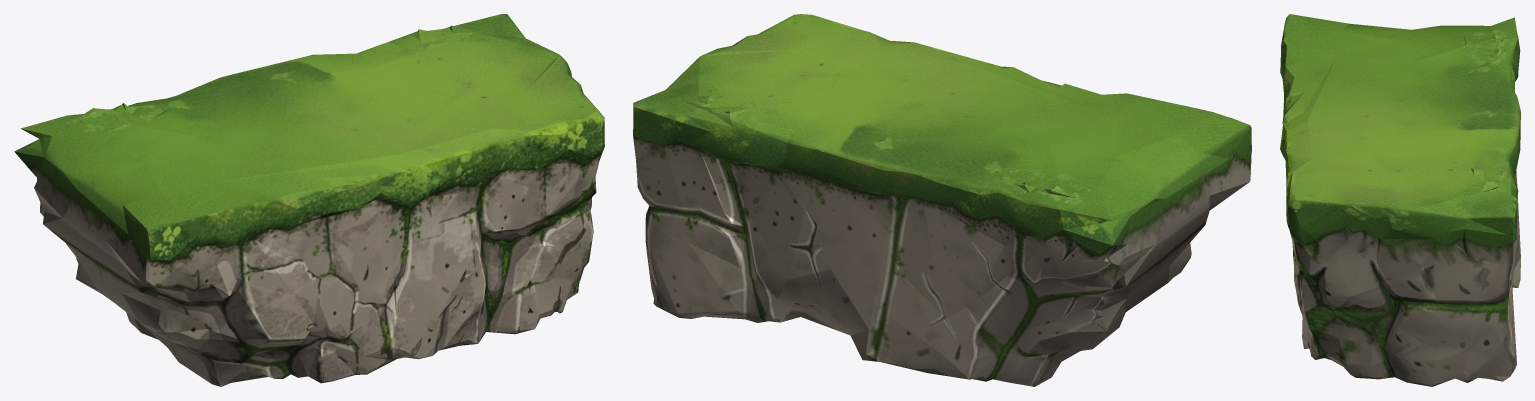
File: RockBlockLight.fbx
3 views of the same model, side by side, from view 1: azimuth 30°, elevation 25°; view 2: azimuth 150°, elevation 25°; view 3: azimuth 270°, elevation 25° (orthographic). The views are drawn at different scales.
Parts seen in each view (by area): view 1: RockBlockLight; view 2: RockBlockLight; view 3: RockBlockLight.
Part boxes in pixels (box(x1,y1,x2,y2)): RockBlockLight: box(14, 14, 604, 386); RockBlockLight: box(633, 14, 1251, 386); RockBlockLight: box(1280, 14, 1520, 386).
Bounding box in the file's own units: 2 × 0.8308 × 0.9991.
1 material, 1 textured.
